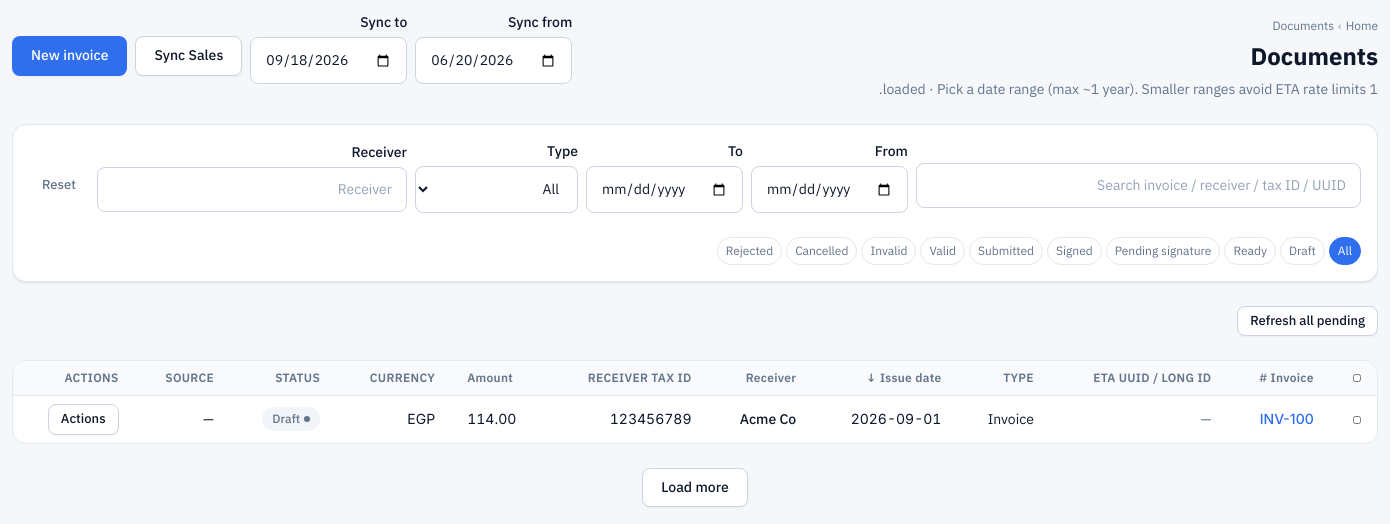
Test: documents list › loads more with the existing cursor instead of client pagination
This screenshot has width=1390, height=524.
Expected: the link "INV-100" is shown, [1260,410,1314,427]
Click the button "Load more" at (695,487), box [642,468,748,507]
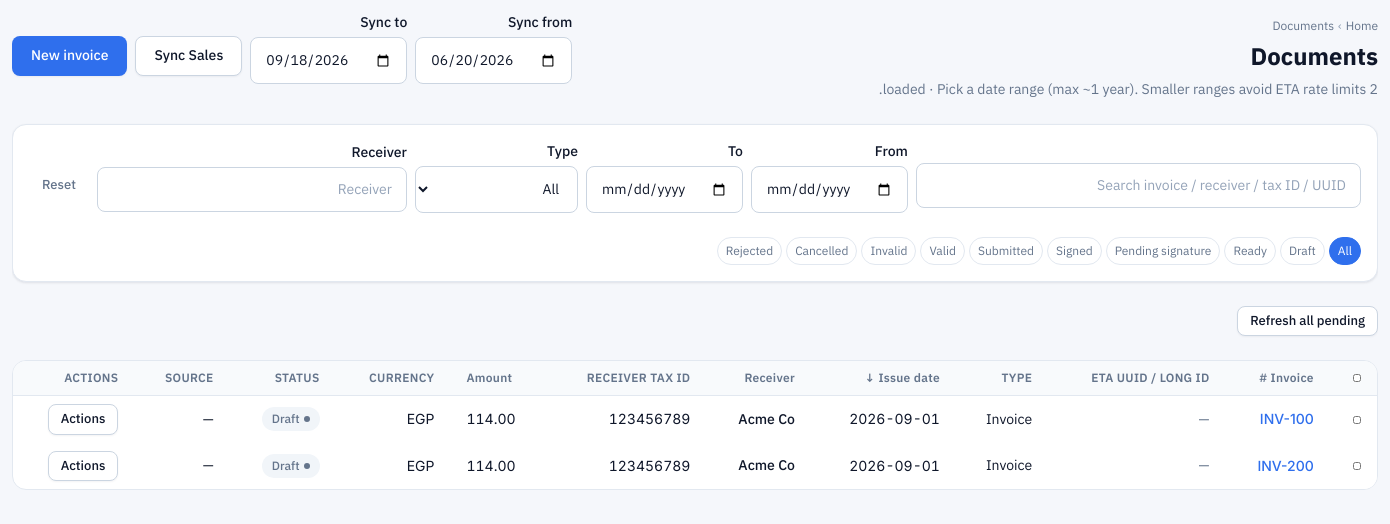
Now the link "INV-200" is shown, box [1257,457,1314,474]
